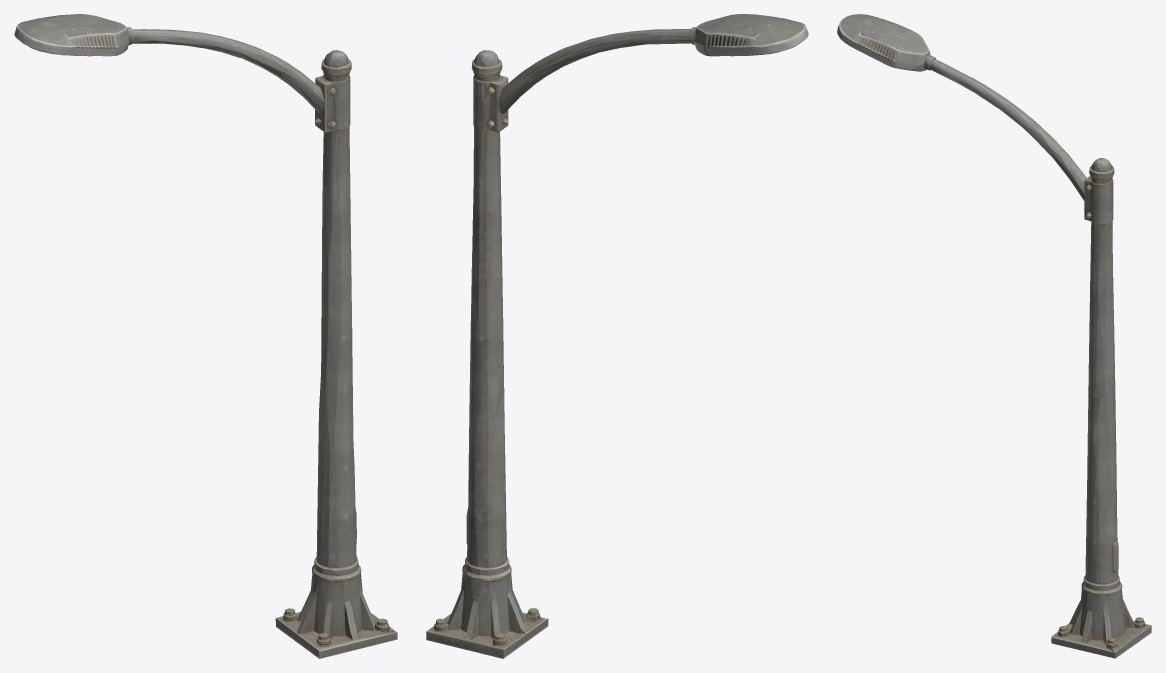
The model's file is prop-streetlight.glb.
The picture shows the model from 3 angles, left to right: view 1: azimuth 30°, elevation 25°; view 2: azimuth 150°, elevation 25°; view 3: azimuth 330°, elevation 25°; orthographic projection. The views are drawn at different scales.
Parts seen in each view (by area): view 1: output_unwrapped; view 2: output_unwrapped; view 3: output_unwrapped.
Boxes of the visible parts, <box> form: output_unwrapped: <box>14,14,397,658</box>; output_unwrapped: <box>426,14,808,658</box>; output_unwrapped: <box>837,14,1151,658</box>.
Size of the model in its own units: 1.04 by 1.9 by 0.2257.
Materials: 1 (1 with a texture image).
